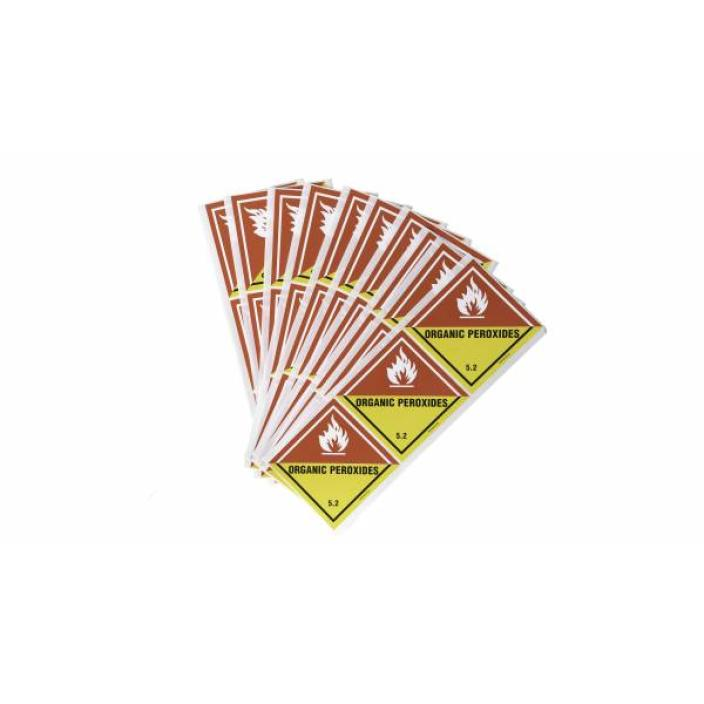defibrillator sign: (409, 264, 539, 393), (336, 336, 467, 459), (269, 401, 397, 526)
